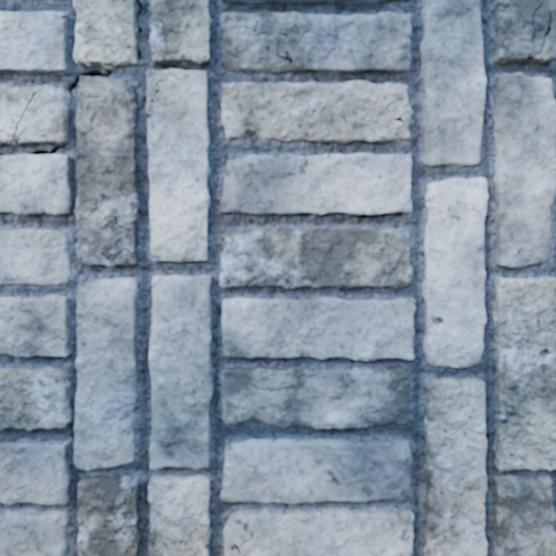brick: (74, 278, 138, 469), (149, 275, 212, 468), (222, 297, 414, 360), (423, 178, 487, 366), (493, 73, 555, 267), (493, 277, 555, 470), (222, 439, 411, 502), (75, 77, 138, 266), (148, 69, 209, 261), (220, 366, 408, 428), (220, 12, 410, 73), (221, 154, 411, 215), (222, 227, 412, 288), (222, 81, 411, 142), (424, 378, 487, 555), (420, 0, 485, 166), (224, 508, 413, 555), (493, 475, 555, 555), (148, 475, 210, 555), (78, 477, 140, 555), (0, 367, 72, 430), (0, 439, 69, 504), (0, 295, 71, 356), (73, 0, 137, 67), (0, 155, 72, 214), (0, 12, 68, 74), (0, 85, 71, 143), (0, 228, 70, 284), (494, 0, 555, 63), (150, 0, 210, 64), (0, 508, 68, 555), (530, 12, 555, 63), (147, 70, 165, 99), (222, 0, 384, 3), (0, 132, 10, 143), (220, 274, 226, 286)
crack: (146, 68, 189, 121), (0, 90, 36, 144), (526, 2, 555, 60), (68, 68, 112, 100), (230, 528, 253, 555), (93, 246, 136, 260), (28, 142, 66, 155), (135, 0, 143, 61), (244, 264, 265, 287), (221, 268, 230, 287), (59, 12, 65, 20), (0, 153, 15, 156), (409, 298, 415, 305)
